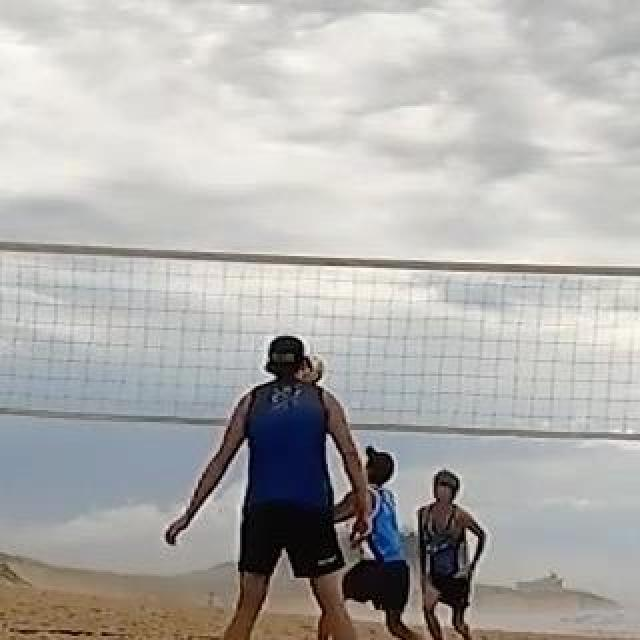volleyball: (291, 351, 323, 385)
